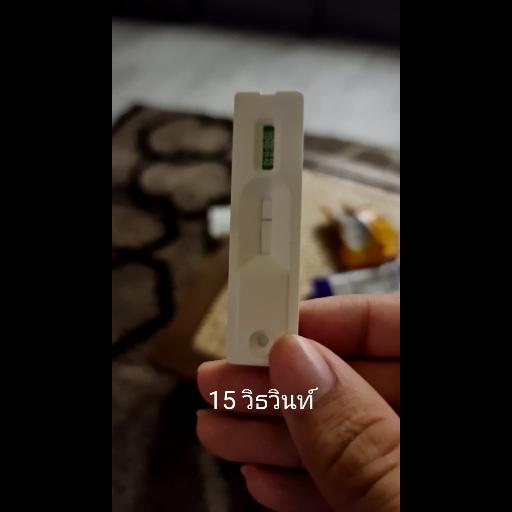Neg: (227, 92, 306, 367)
